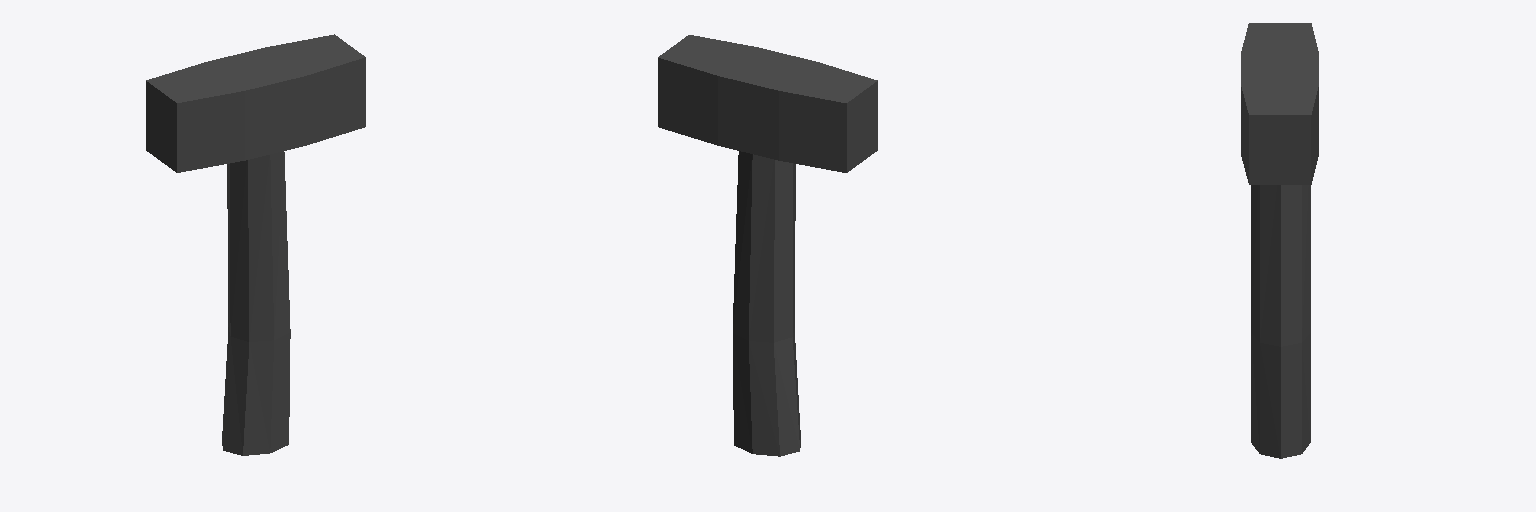
Rendered from BlackSmithHammer_01.obj.
3 views of the same model, side by side, from view 1: azimuth 30°, elevation 25°; view 2: azimuth 150°, elevation 25°; view 3: azimuth 270°, elevation 25° (orthographic).
Visible parts, largest first — view 1: BlacksmithHammer_01; view 2: BlacksmithHammer_01; view 3: BlacksmithHammer_01.
Part boxes in pixels (bbox=[...]): BlacksmithHammer_01: bbox=[146, 34, 365, 455]; BlacksmithHammer_01: bbox=[658, 35, 877, 456]; BlacksmithHammer_01: bbox=[1241, 23, 1318, 458].
Bounding box in the file's own units: 0.1565 × 0.2962 × 0.0564.